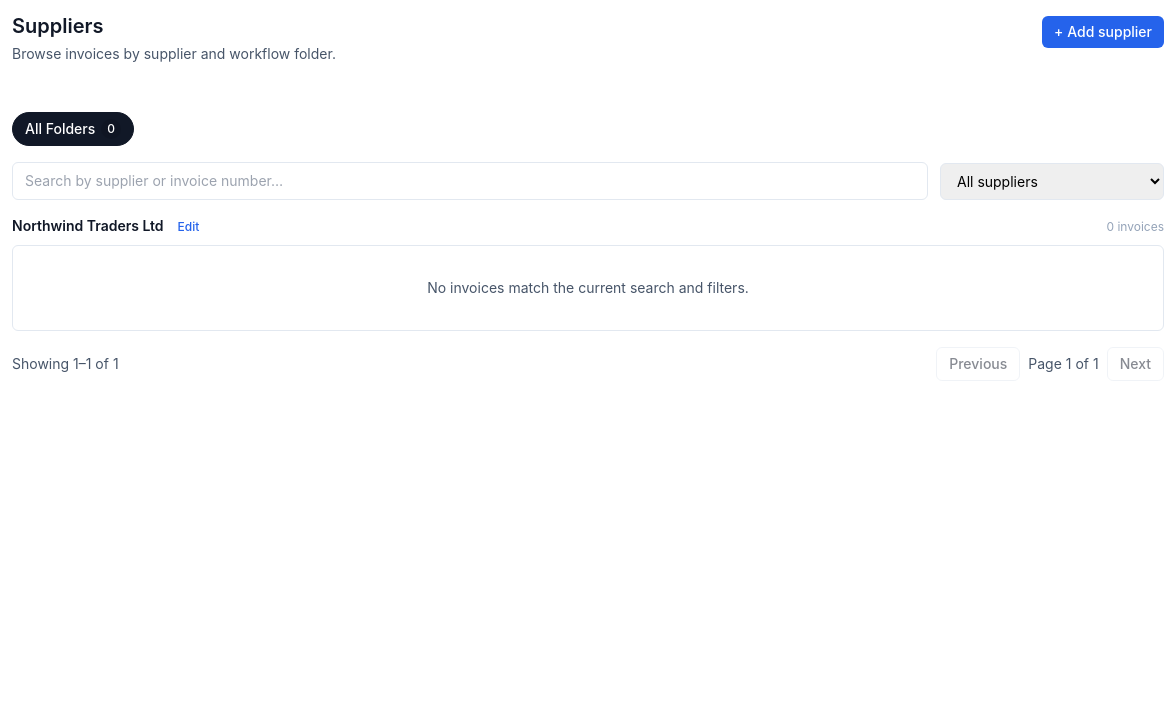
Test case: SuppliersPage — create/edit wiring (WP-027) › closes the form on Cancel and shows the "+ Add supplier" button again
Click the button "+ Add supplier" at (1103, 32), box [1042,16,1164,48]
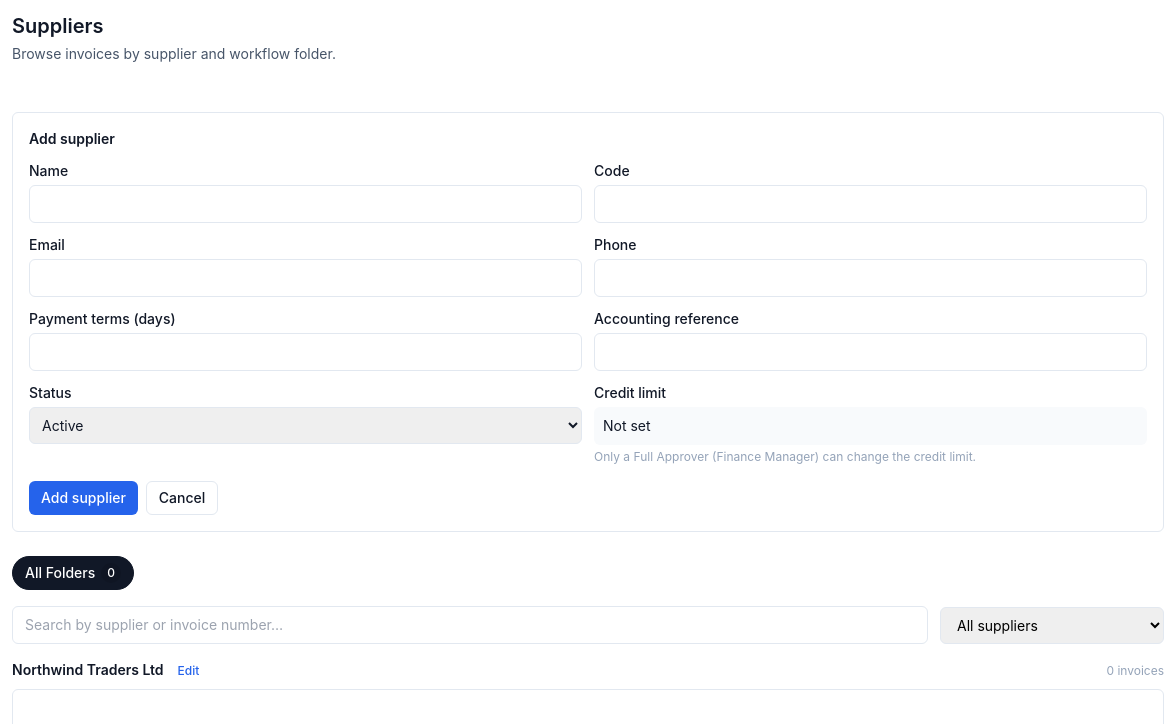
Click the button "Cancel" at (182, 498), box [146,481,218,515]
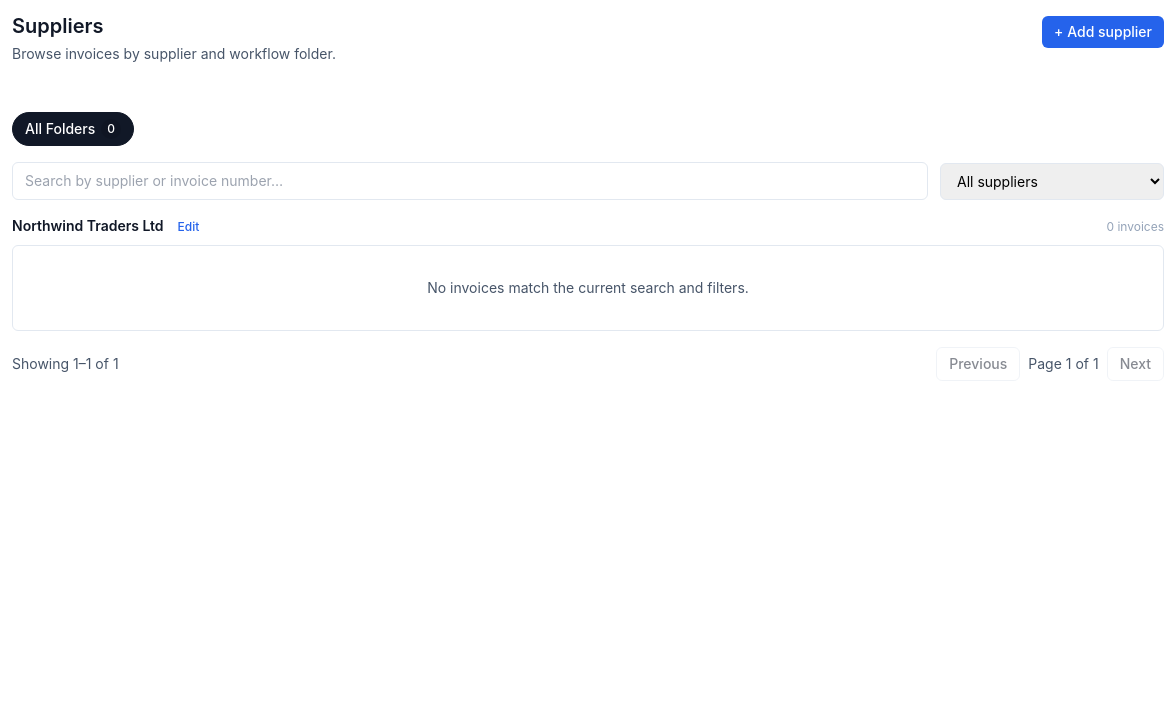
Check: the button "+ Add supplier" is shown, box [1042,16,1164,48]
